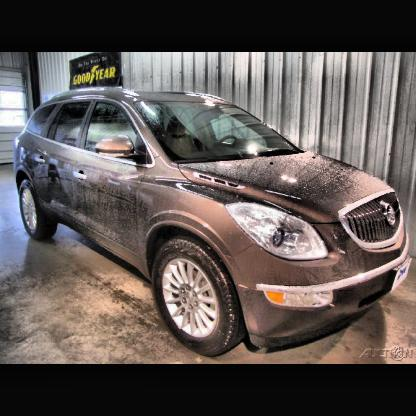Buick Enclave SUV 2012: (14, 86, 411, 350)
